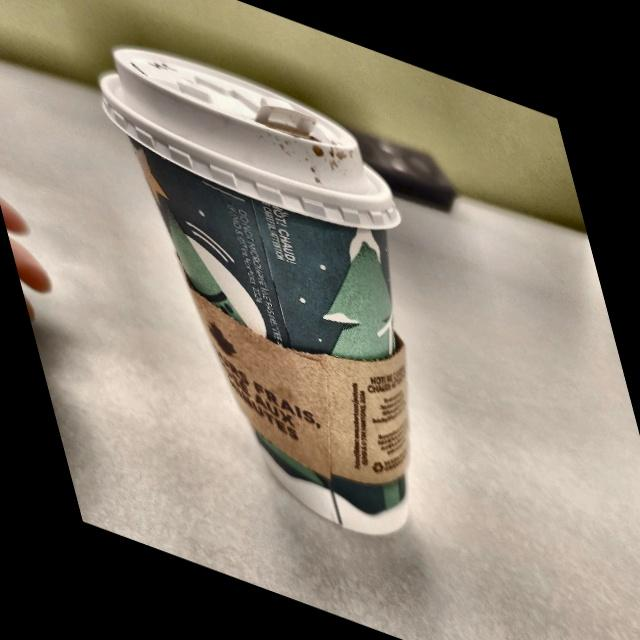Timmies: (66, 8, 522, 610)
